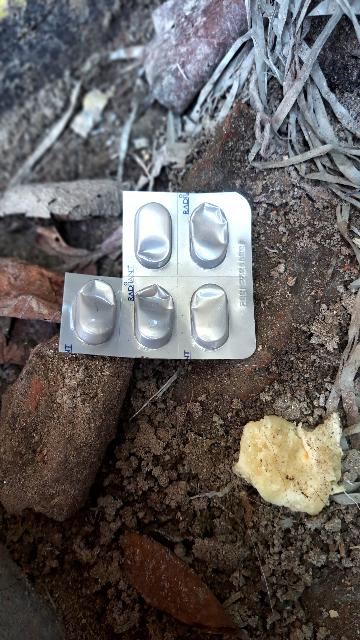medicine: (60, 190, 260, 358)
